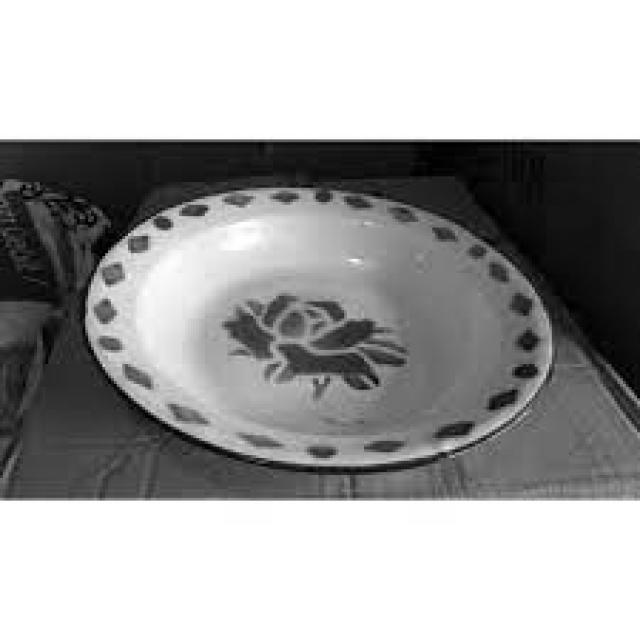dish: (41, 151, 608, 490)
